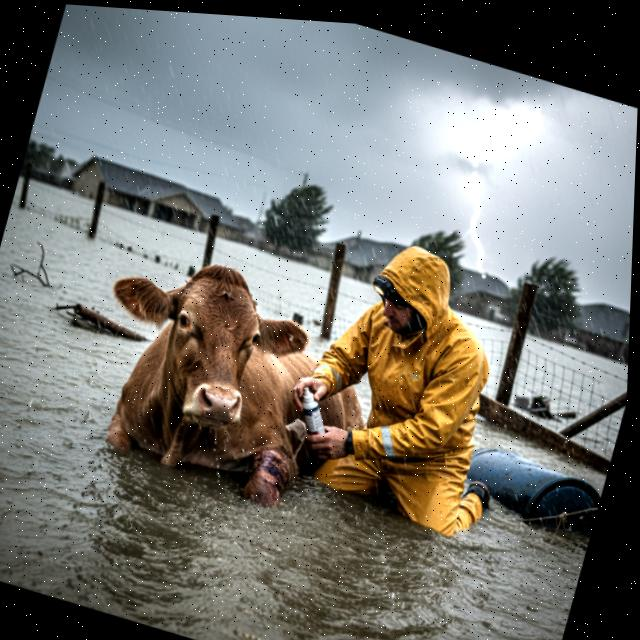cow: (51, 224, 397, 535)
rescuer: (265, 211, 565, 572)
